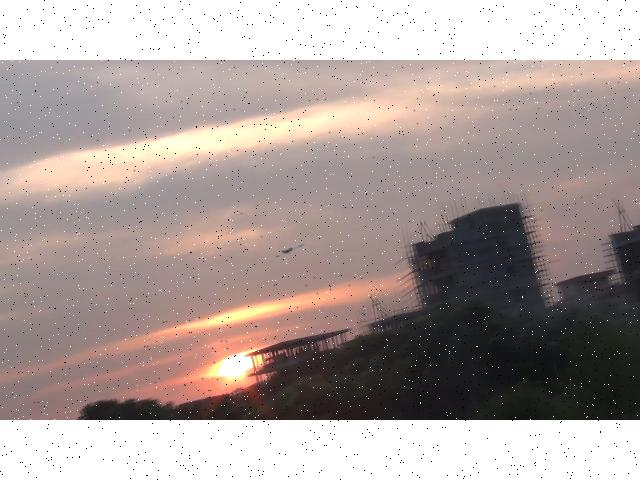Anti-Drone: (274, 244, 306, 258)
